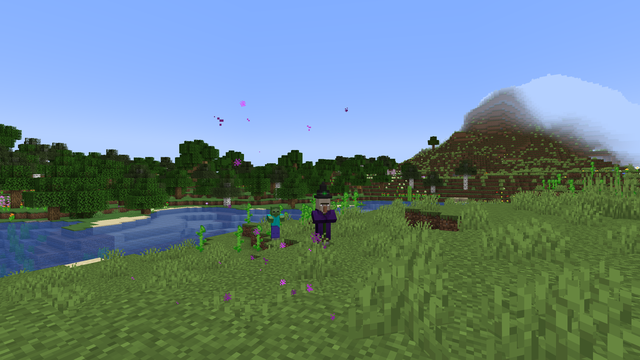sorcieres: (312, 195, 332, 246)
zombies: (268, 206, 282, 240)
